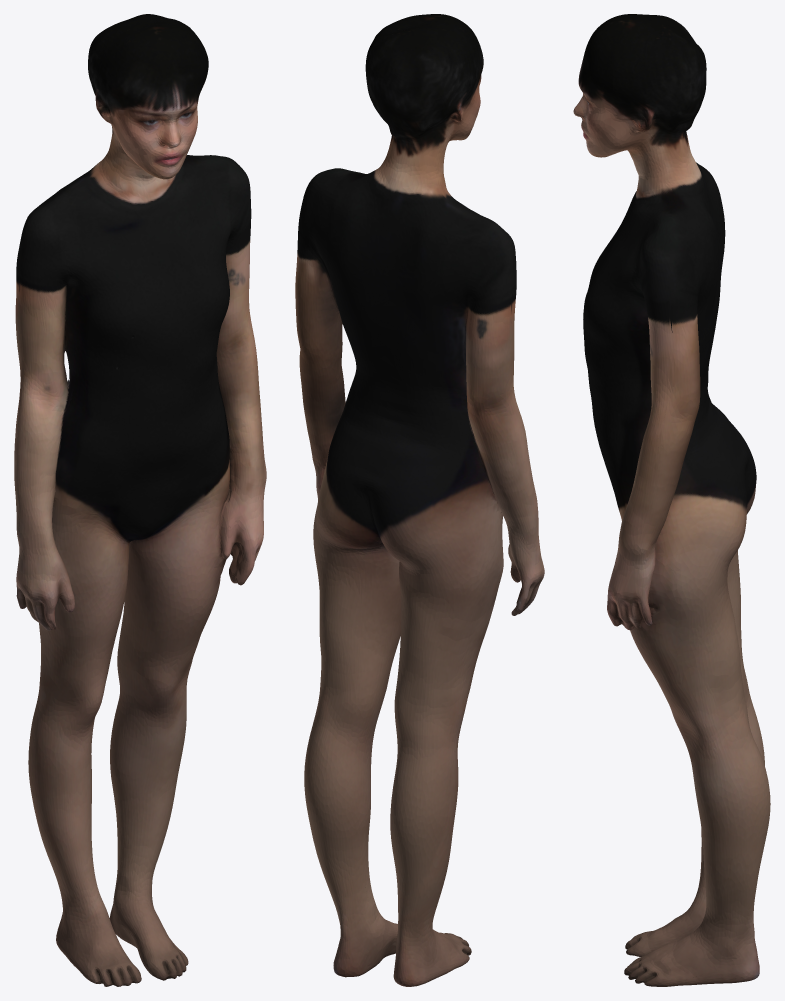
File: gabriette.obj
3 views of the same model, side by side, from view 1: azimuth 30°, elevation 25°; view 2: azimuth 150°, elevation 25°; view 3: azimuth 270°, elevation 25° (orthographic). The views are drawn at different scales.
Parts seen in each view (by area): view 1: Group38300; view 2: Group38300; view 3: Group38300.
Boxes of the visible parts, box(x1,y1,x2,y2) form: Group38300: box(14, 14, 266, 986); Group38300: box(295, 14, 544, 986); Group38300: box(573, 14, 770, 986).
Size of the model in its own units: 45.41 by 174 by 32.87.
1 material, 1 textured.
